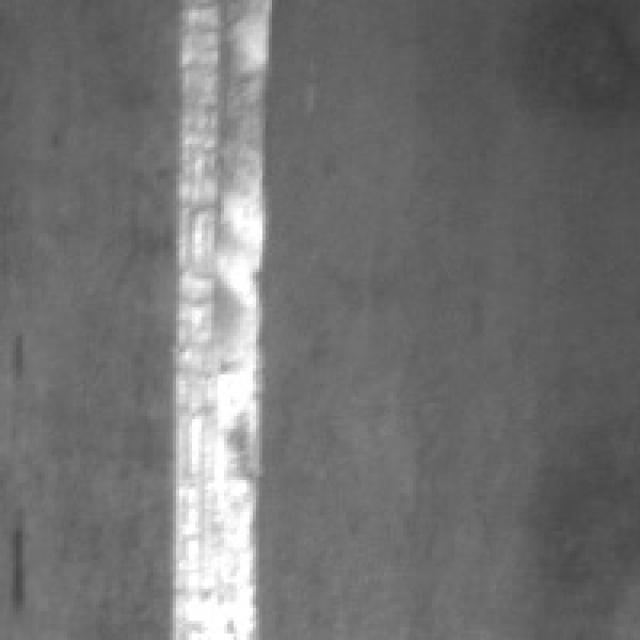scratches: (154, 0, 275, 634)
